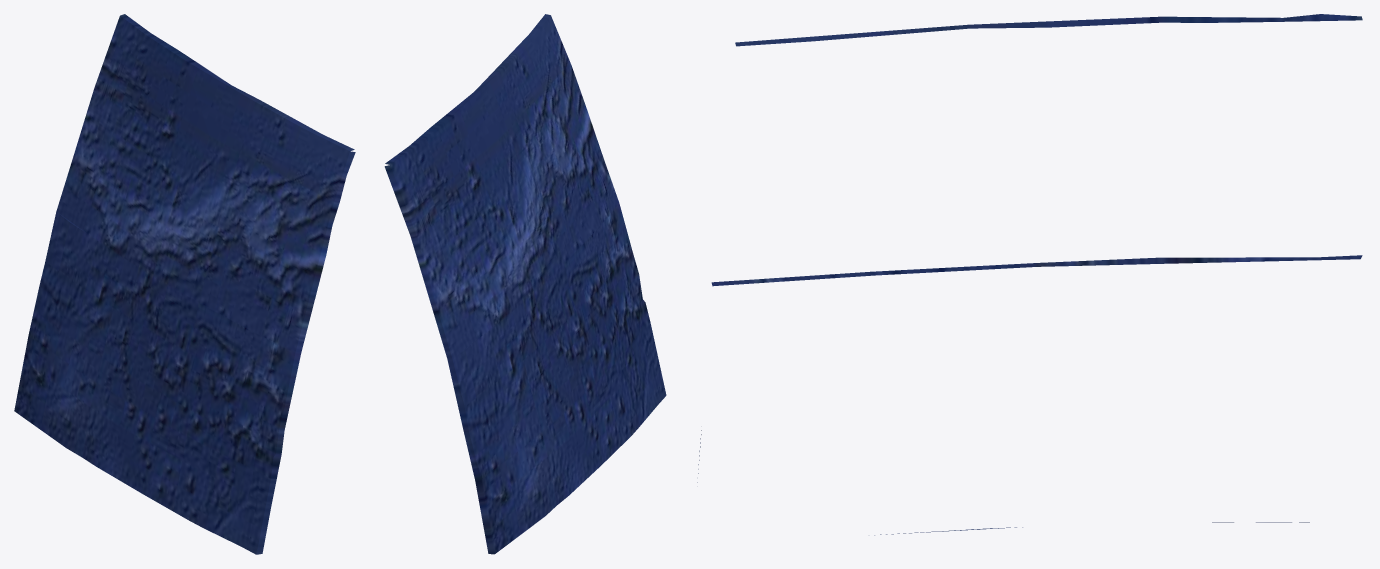
3 renders of one model, left to right at view 1: azimuth 30°, elevation 25°; view 2: azimuth 150°, elevation 25°; view 3: azimuth 270°, elevation 25°, orthographic. The views are drawn at different scales.
Size of the model in its own units: 490030 by 1208048 by 1233702.
Materials: 1 (1 with a texture image).
